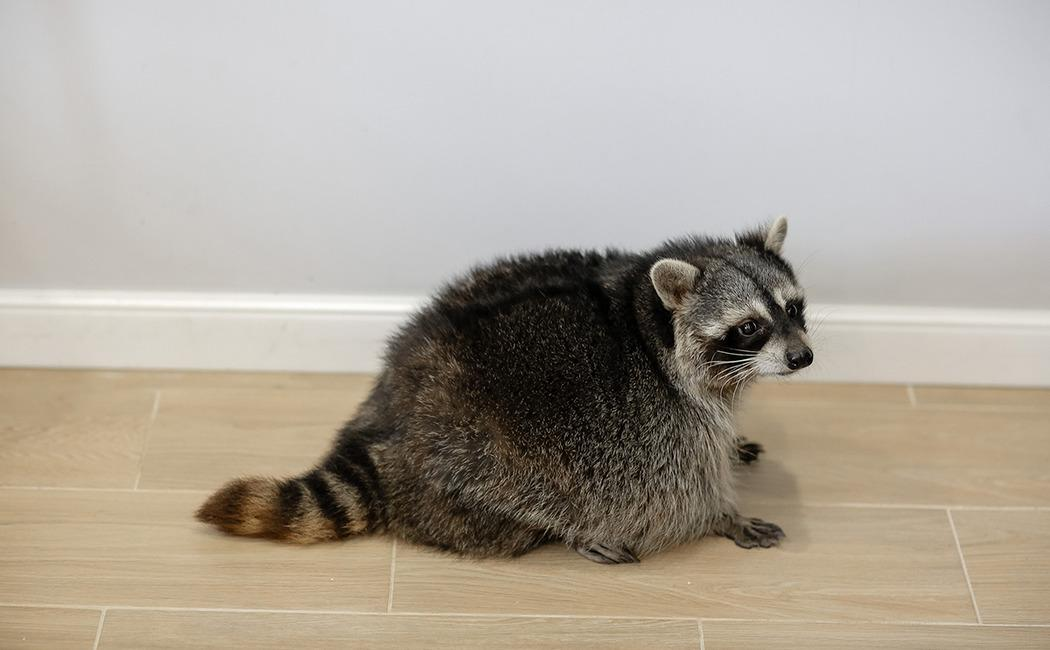raccoon: (204, 220, 832, 560)
